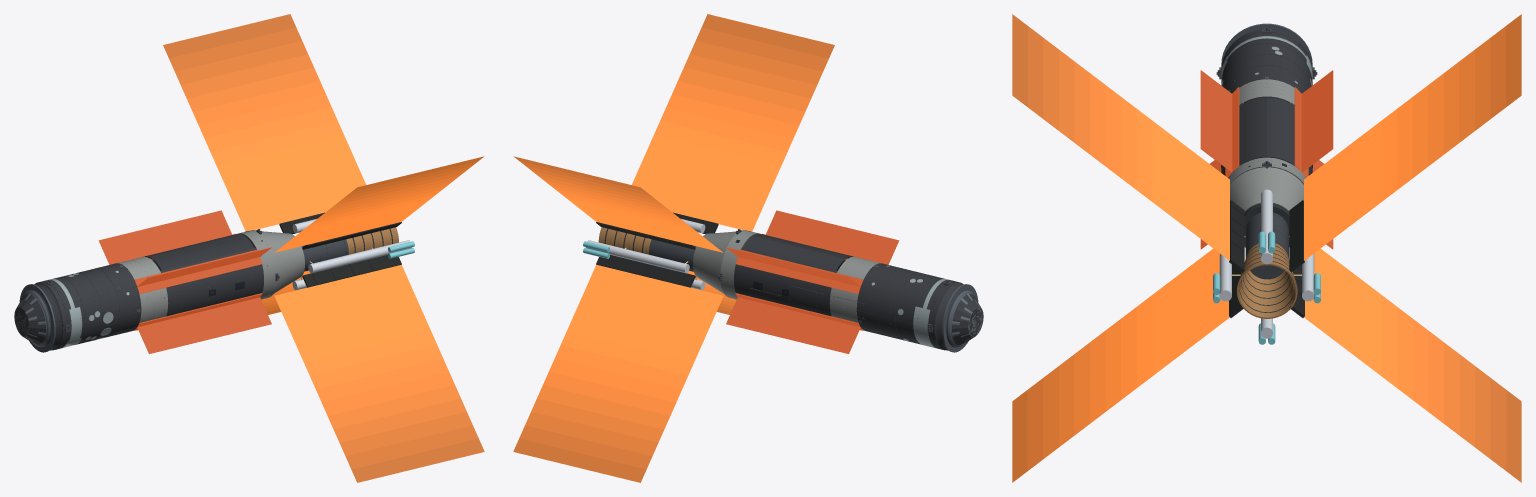
Rendered from wayfarer_nacelle_torch_f173094b.glb.
3 renders of one model, left to right at view 1: azimuth 30°, elevation 25°; view 2: azimuth 150°, elevation 25°; view 3: azimuth 270°, elevation 25°, orthographic. The views are drawn at different scales.
Parts seen in each view (by area): view 1: dry:armor, dry:skin_midship, dry:hotfin_220:pleat_13, dry:hotfin_40:pleat_04, dry:hotfin_220:pleat_09, dry:hotfin_40:pleat_02, dry:hotfin_220:pleat_04, dry:hotfin_220:pleat_07, dry:hotfin_220:pleat_11, dry:hotfin_40:pleat_03, dry:hotfin_40:pleat_05, dry:hotfin_40:pleat_08 (+48 smaller); view 2: dry:armor, dry:skin_midship, dry:hotfin_320:pleat_13, dry:hotfin_140:pleat_04, dry:hotfin_320:pleat_09, dry:hotfin_140:pleat_02, dry:hotfin_320:pleat_04, dry:hotfin_320:pleat_07, dry:hotfin_320:pleat_11, dry:hotfin_140:pleat_03, dry:hotfin_140:pleat_05, dry:hotfin_140:pleat_08 (+48 smaller); view 3: dry:armor, dry:nozzle, dry:thrust_cone, dry:door_port, dry:door_starboard, dry:hotfin_220:pleat_03, dry:hotfin_320:pleat_03, dry:hotfin_40:pleat_05, dry:hotfin_40:pleat_07, dry:hotfin_140:pleat_05, dry:hotfin_140:pleat_07, dry:hotfin_220:pleat_05 (+63 smaller).
Boxes of the visible parts, x1=… form: dry:armor: x1=23, y1=263, x2=141, y2=350; dry:skin_midship: x1=160, y1=247, x2=263, y2=316; dry:hotfin_220:pleat_13: x1=351, y1=438, x2=484, y2=482; dry:hotfin_40:pleat_04: x1=216, y1=134, x2=349, y2=178; dry:hotfin_220:pleat_09: x1=327, y1=385, x2=460, y2=429; dry:hotfin_40:pleat_02: x1=228, y1=161, x2=361, y2=205; dry:hotfin_220:pleat_04: x1=298, y1=318, x2=431, y2=362; dry:hotfin_220:pleat_07: x1=316, y1=358, x2=448, y2=402; dry:hotfin_220:pleat_11: x1=339, y1=412, x2=472, y2=455; dry:hotfin_40:pleat_03: x1=222, y1=147, x2=355, y2=191; dry:hotfin_40:pleat_05: x1=210, y1=121, x2=343, y2=165; dry:hotfin_40:pleat_08: x1=193, y1=81, x2=325, y2=125; dry:armor: x1=856, y1=263, x2=974, y2=350; dry:skin_midship: x1=734, y1=247, x2=837, y2=316; dry:hotfin_320:pleat_13: x1=513, y1=438, x2=646, y2=482; dry:hotfin_140:pleat_04: x1=648, y1=134, x2=781, y2=178; dry:hotfin_320:pleat_09: x1=537, y1=385, x2=670, y2=429; dry:hotfin_140:pleat_02: x1=636, y1=161, x2=769, y2=205; dry:hotfin_320:pleat_04: x1=566, y1=318, x2=699, y2=362; dry:hotfin_320:pleat_07: x1=549, y1=358, x2=681, y2=402; dry:hotfin_320:pleat_11: x1=525, y1=412, x2=658, y2=455; dry:hotfin_140:pleat_03: x1=642, y1=147, x2=775, y2=191; dry:hotfin_140:pleat_05: x1=654, y1=121, x2=787, y2=165; dry:hotfin_140:pleat_08: x1=672, y1=81, x2=804, y2=125; dry:armor: x1=1221, y1=29, x2=1312, y2=93; dry:nozzle: x1=1237, y1=243, x2=1297, y2=318; dry:thrust_cone: x1=1230, y1=167, x2=1303, y2=247; dry:door_port: x1=1242, y1=97, x2=1266, y2=163; dry:door_starboard: x1=1267, y1=97, x2=1291, y2=163; dry:hotfin_220:pleat_03: x1=1167, y1=271, x2=1183, y2=364; dry:hotfin_320:pleat_03: x1=1350, y1=271, x2=1366, y2=364; dry:hotfin_40:pleat_05: x1=1381, y1=109, x2=1397, y2=201; dry:hotfin_40:pleat_07: x1=1412, y1=85, x2=1428, y2=177; dry:hotfin_140:pleat_05: x1=1136, y1=109, x2=1152, y2=201; dry:hotfin_140:pleat_07: x1=1105, y1=85, x2=1121, y2=177; dry:hotfin_220:pleat_05: x1=1136, y1=295, x2=1152, y2=387.
Bounding box in the file's own units: 55.5 × 42.11 × 50.18.
